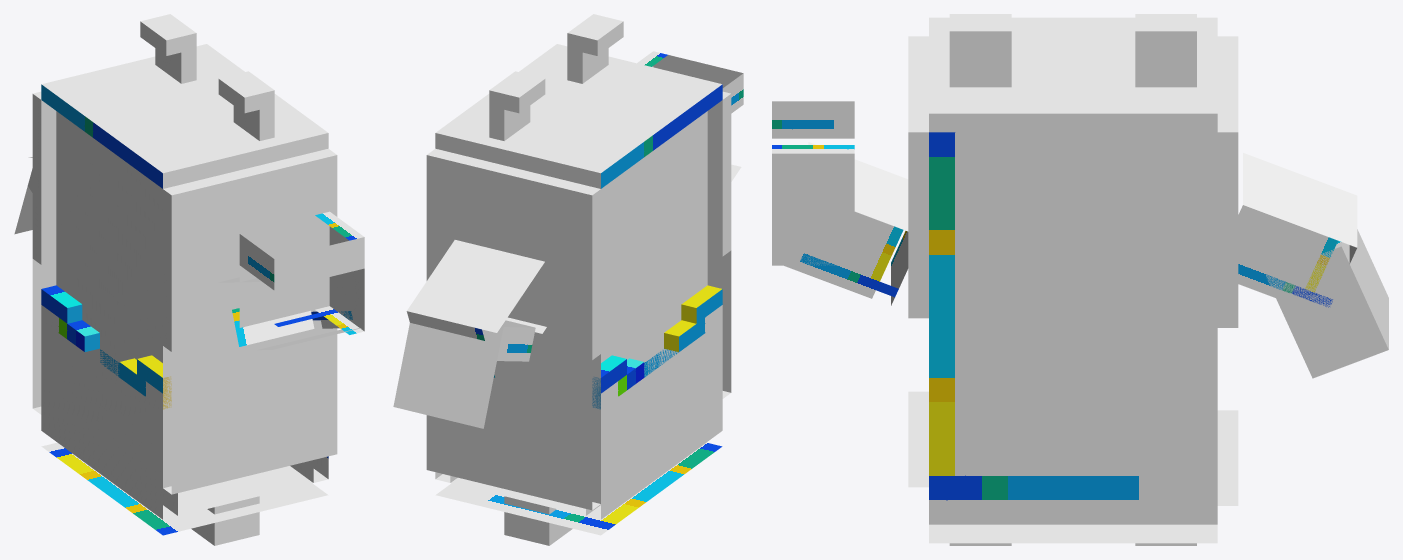
File: BingDun.obj
3 views of the same model, side by side, from view 1: azimuth 30°, elevation 25°; view 2: azimuth 150°, elevation 25°; view 3: azimuth 270°, elevation 25° (orthographic). The views are drawn at different scales.
Parts seen in each view (by area): view 1: cube, 1, arm1, 2, 10, 11, 9, 8; view 2: cube, 1, arm1, 3, 10, 11, 8, 9; view 3: cube, arm1, 8, 9, 11, 10.
Boxes of the visible parts, x1,y1,x2,y2 form: cube: (32,44,337,535); 1: (56,111,285,467); arm1: (14,157,364,350); 2: (191,480,259,545); 10: (140,14,196,55); 11: (218,71,274,113); 9: (155,48,196,83); 8: (233,106,274,140); cube: (426,44,731,535); 1: (601,111,707,377); arm1: (393,51,743,428); 3: (504,496,572,545); 10: (489,71,545,113); 11: (567,14,623,55); 8: (567,48,608,83); 9: (489,106,530,140); cube: (908,17,1238,543); arm1: (772,101,1388,378); 8: (949,50,1011,87); 9: (1135,50,1196,87); 11: (949,14,1011,49); 10: (1135,14,1196,49).
Bounding box in the file's own units: 0.6875 × 1.75 × 1.87.
